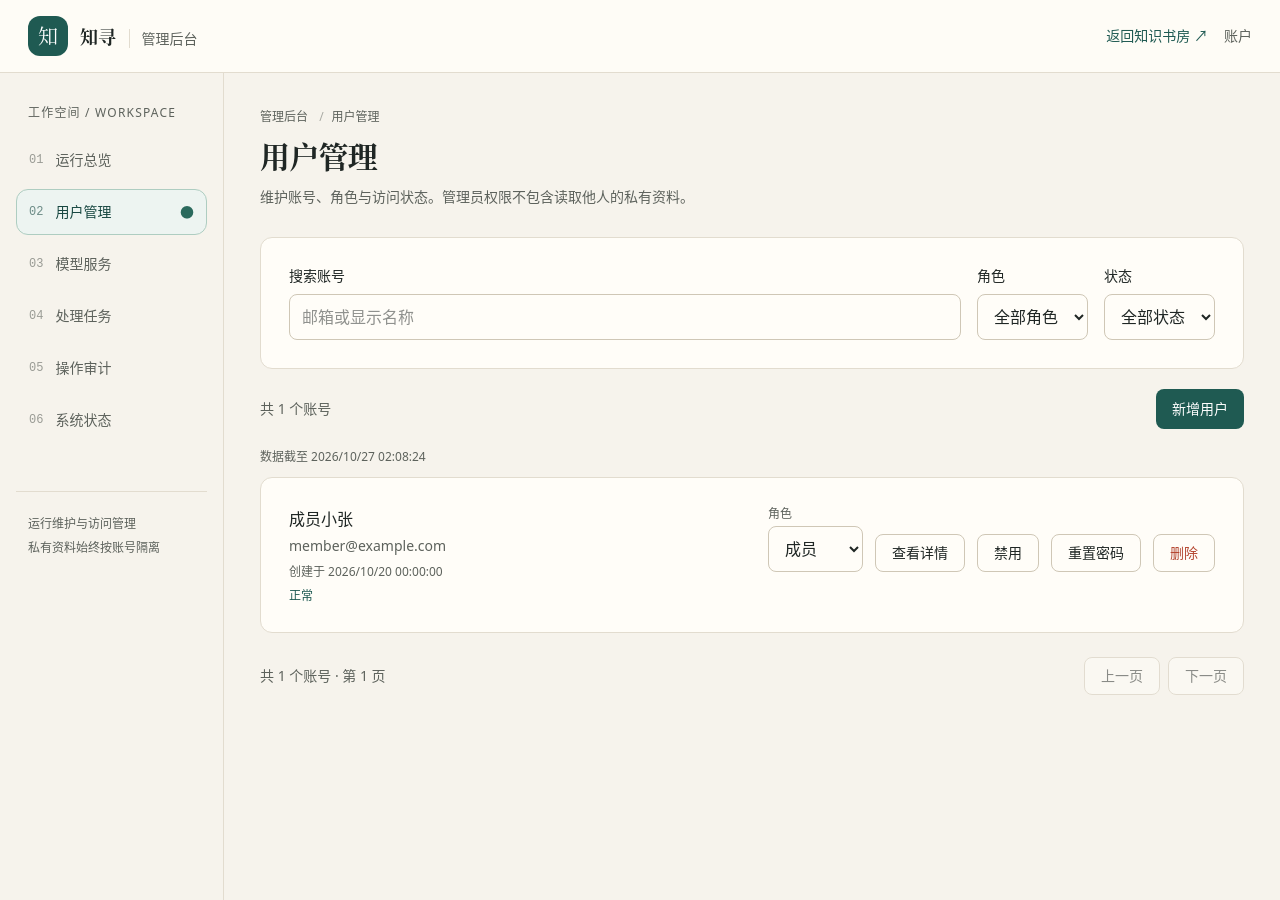
Test: 用户刷新失败保留并标记旧结果
Select "已停用" in the dropdown with test id "admin-status-filter": coordinates (1160, 317) [1104,294,1215,340]
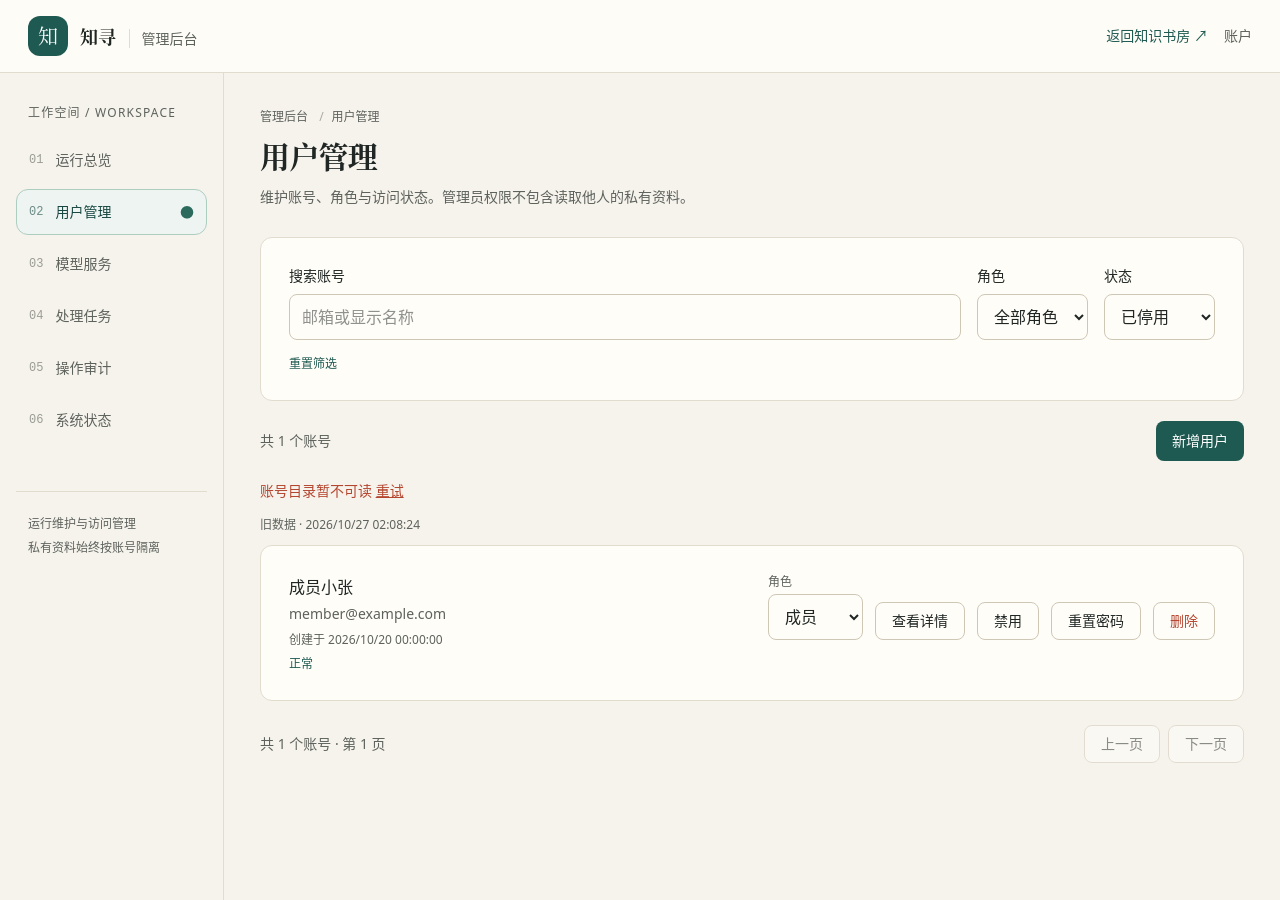
Expected: the number of list items with test id "admin-user-row" is 1, [260,545,1244,701]
Result: the text "旧数据" is shown at [260,516,420,533]
Result: the text "账号目录暂不可读" is shown at [260,481,376,500]
